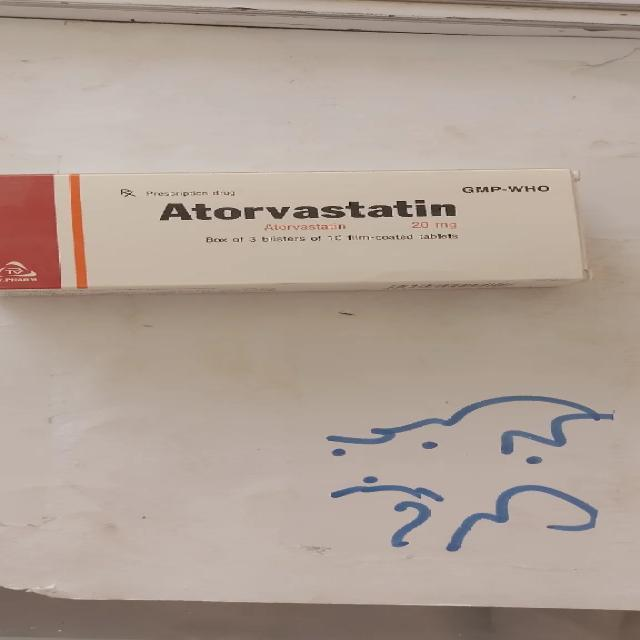drug-name: (156, 200, 459, 220)
